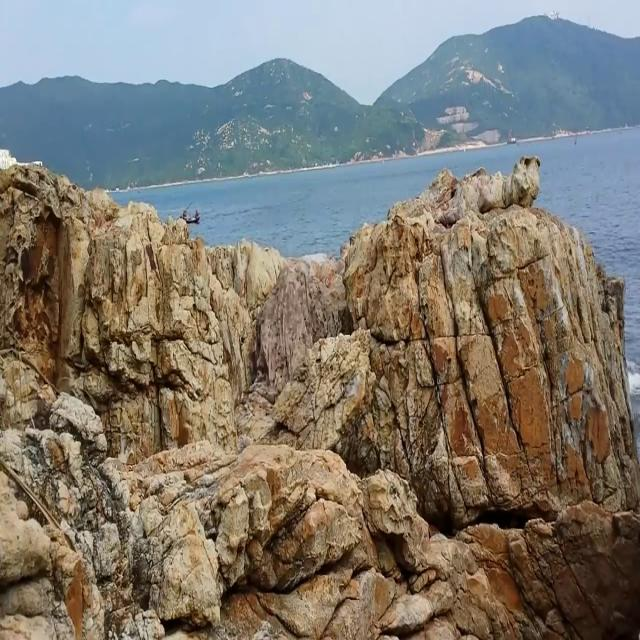Camouflage: (252, 261, 336, 381)
